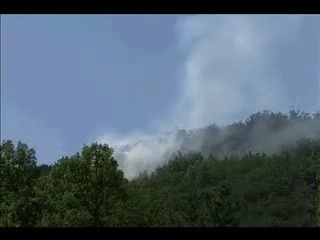smoke: (174, 14, 318, 159), (113, 117, 174, 183)
